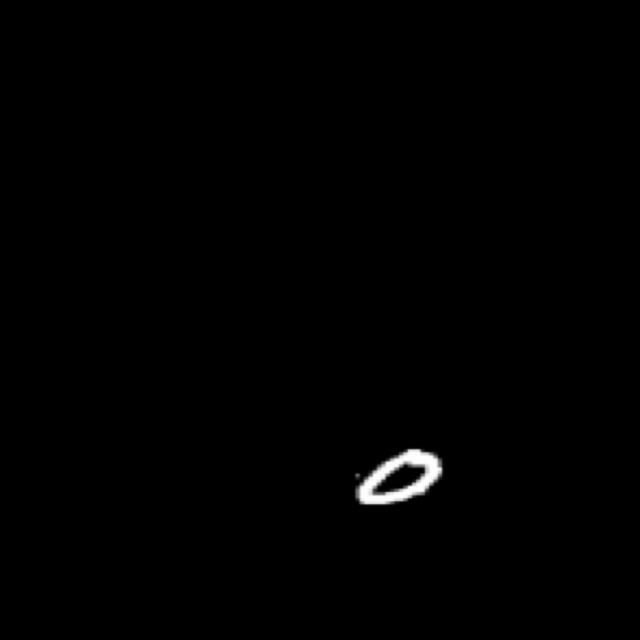zero -0-: (342, 433, 452, 518)
